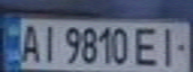0: (112, 25, 133, 66)
1: (96, 24, 115, 65)
8: (78, 24, 100, 65)
9: (60, 22, 81, 65)
A: (15, 20, 42, 63)
E: (130, 24, 163, 67)
I: (154, 24, 187, 69), (36, 21, 60, 63)
